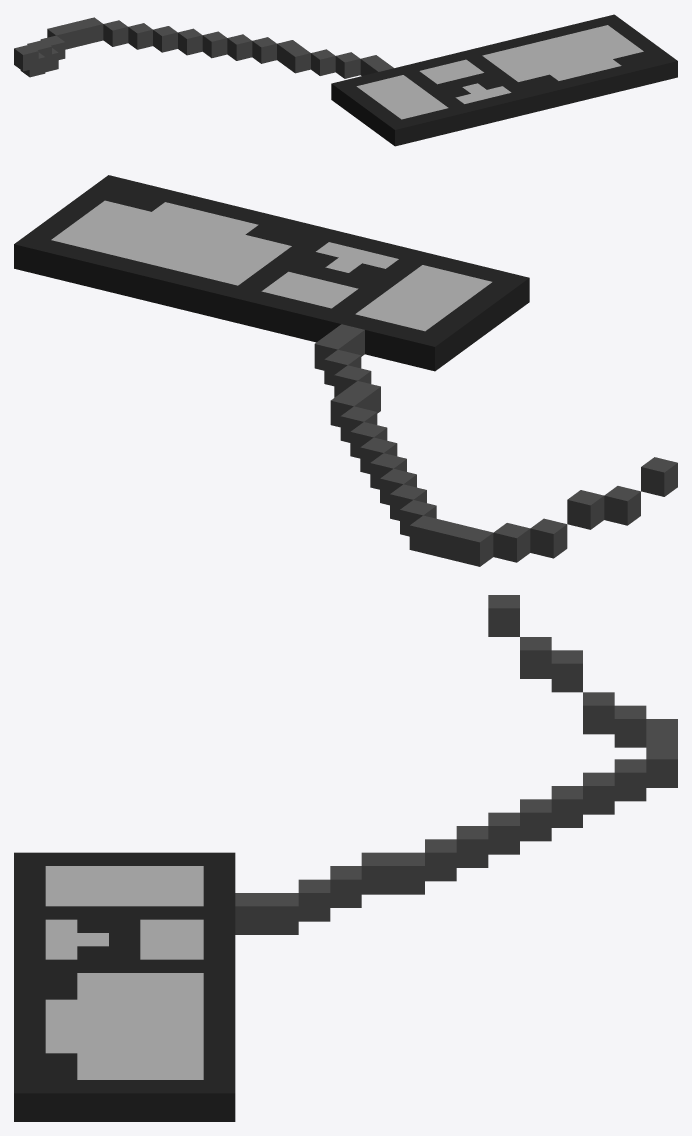
The model's file is Keyboard-0-Keyboard.obj.
The picture shows the model from 3 angles, top to bottom: view 1: azimuth 30°, elevation 25°; view 2: azimuth 150°, elevation 25°; view 3: azimuth 270°, elevation 25°; orthographic projection. The views are drawn at different scales.
Parts seen in each view (by area): view 1: Keyboard; view 2: Keyboard; view 3: Keyboard.
Part boxes in pixels (left/top/right/bottom): Keyboard: left=14, top=14, right=677, bottom=146; Keyboard: left=14, top=175, right=677, bottom=566; Keyboard: left=14, top=595, right=677, bottom=1121.
Size of the model in its own units: 3.3 by 0.3 by 2.1.
1 material, 1 textured.
